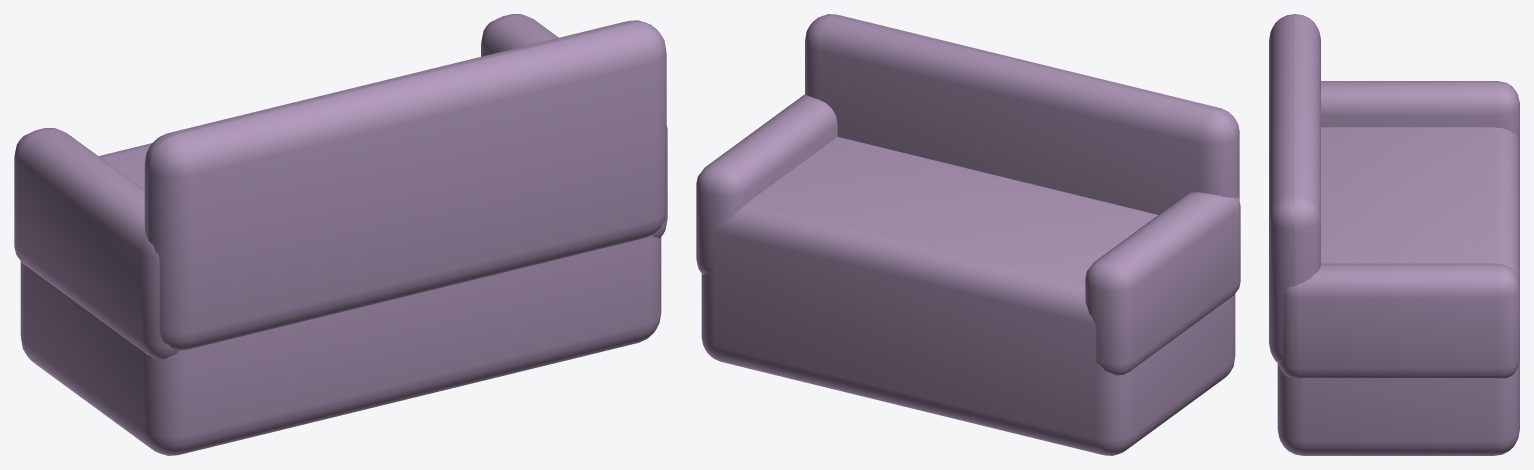
File: sofa_two_seat.glb
3 views of the same model, side by side, from view 1: azimuth 30°, elevation 25°; view 2: azimuth 150°, elevation 25°; view 3: azimuth 270°, elevation 25° (orthographic). The views are drawn at different scales.
Visible parts, largest first — view 1: Back, Base, ArmL, ArmR; view 2: Base, Back, ArmL, ArmR; view 3: Base, ArmR, Back, ArmL.
Part boxes in pixels (bbox=[...]): Back: bbox=[144, 20, 666, 350]; Base: bbox=[20, 143, 661, 455]; ArmL: bbox=[14, 128, 178, 359]; ArmR: bbox=[481, 14, 667, 237]; Base: bbox=[701, 137, 1235, 455]; Back: bbox=[805, 14, 1239, 214]; ArmL: bbox=[1085, 192, 1240, 375]; ArmR: bbox=[696, 94, 837, 274]; Base: bbox=[1277, 127, 1519, 455]; ArmR: bbox=[1279, 263, 1519, 378]; Back: bbox=[1269, 14, 1320, 363]; ArmL: bbox=[1321, 81, 1519, 141].
Size of the model in its own units: 1.12 by 0.66 by 0.58.
